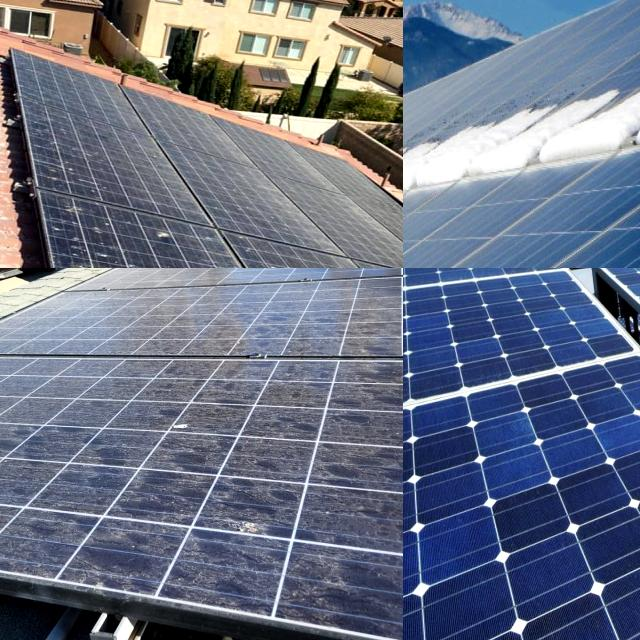bird: (138, 204, 206, 268), (52, 191, 96, 244), (143, 210, 176, 254)
crack: (408, 406, 640, 640), (403, 270, 636, 430)
dust: (210, 488, 403, 600), (4, 462, 187, 567), (213, 366, 391, 470), (9, 370, 176, 455), (214, 276, 396, 352), (44, 304, 185, 352), (0, 373, 60, 477), (184, 268, 366, 289), (0, 500, 55, 544)
panel: (488, 68, 632, 164), (403, 117, 481, 187), (403, 157, 462, 204), (403, 206, 461, 237)
